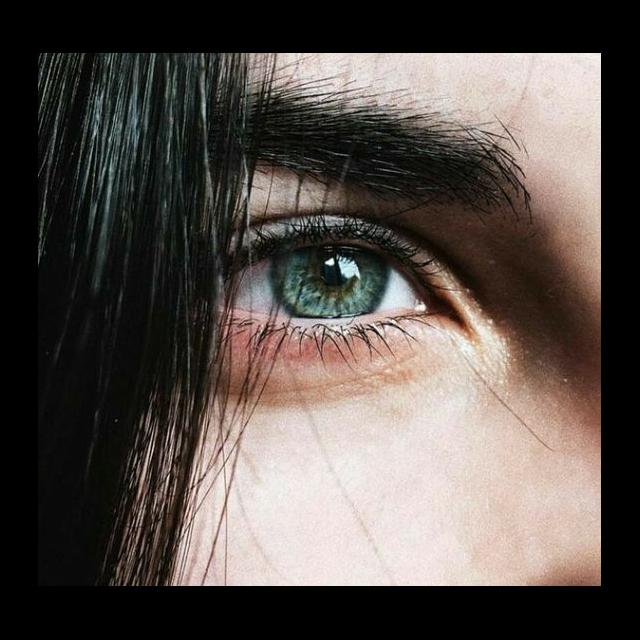eye: (218, 224, 432, 334)
iris: (269, 238, 394, 321)
